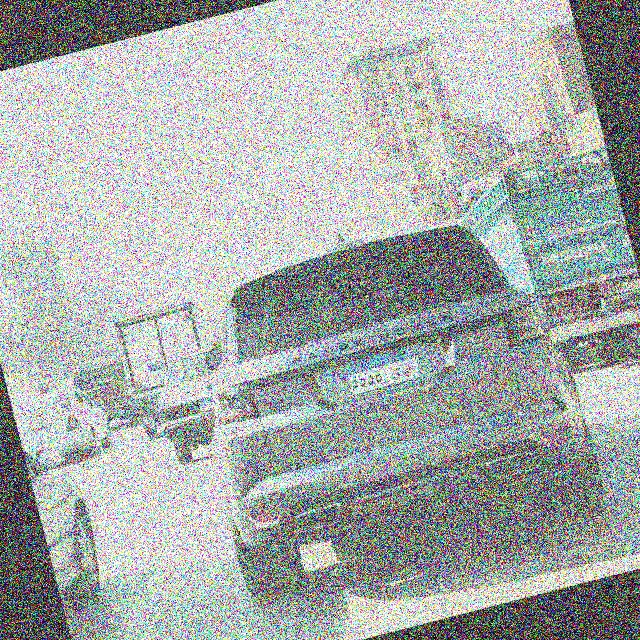License Plate: (343, 344, 422, 397)
